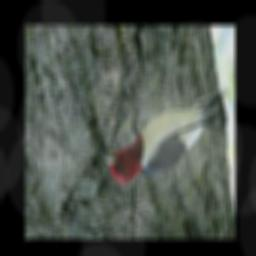Woodpecker: (96, 76, 233, 192)
